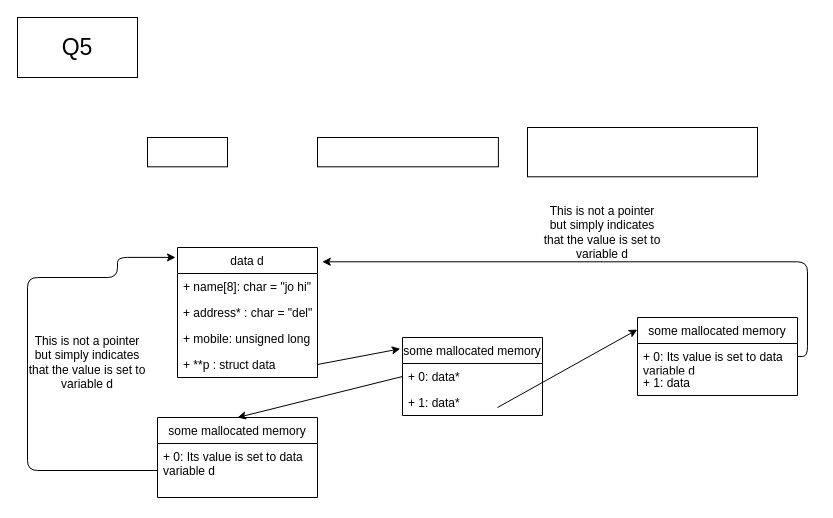
Some shapes in this 833 by 518 pixel diagram are drawn without their labels. The centre of each missing label's shape, as x and y in pixels:
char address[8] = {'d','e','l','\0'}: pixel 642 151
char* greeting = "hi": pixel 407 151
int k: pixel 187 151
